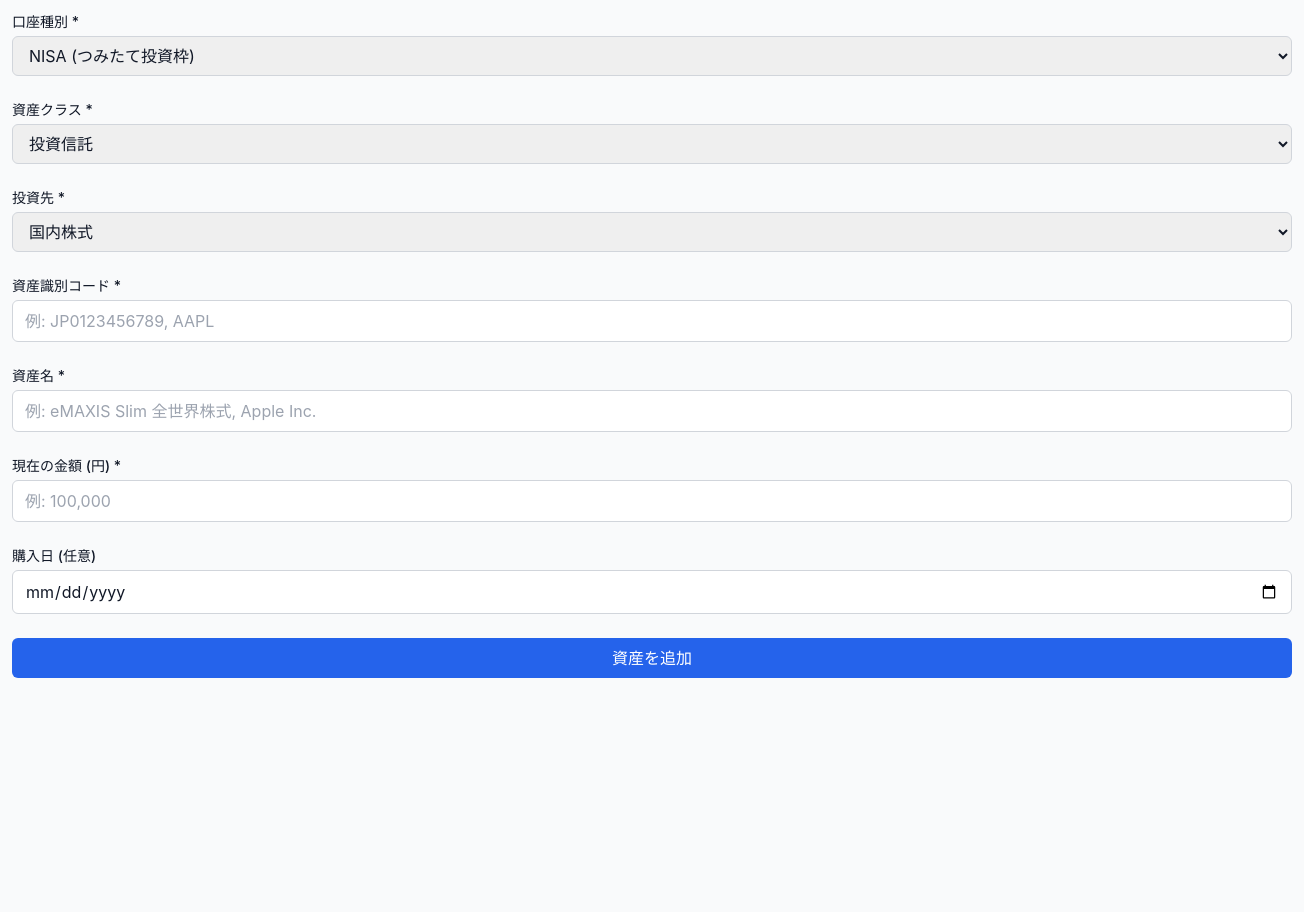
Scenario: HoldingsForm › validates non-negative amount
Type "-1000" into the field labelled "現在の金額 (円) *". click: (652, 501)
box: [12,480,1292,522]
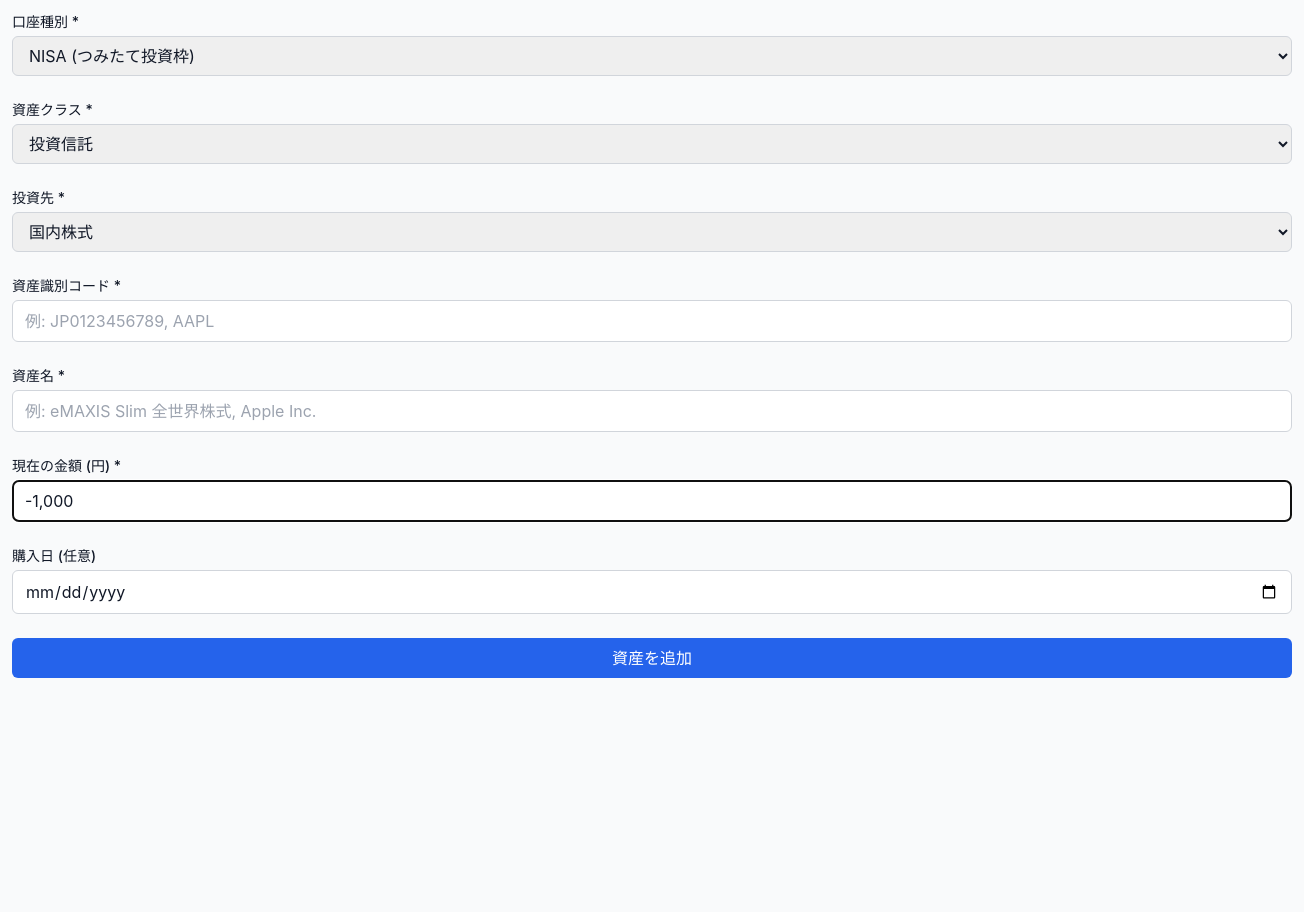
Click the button "資産を追加". click: (652, 658)
box: [12,638,1292,678]
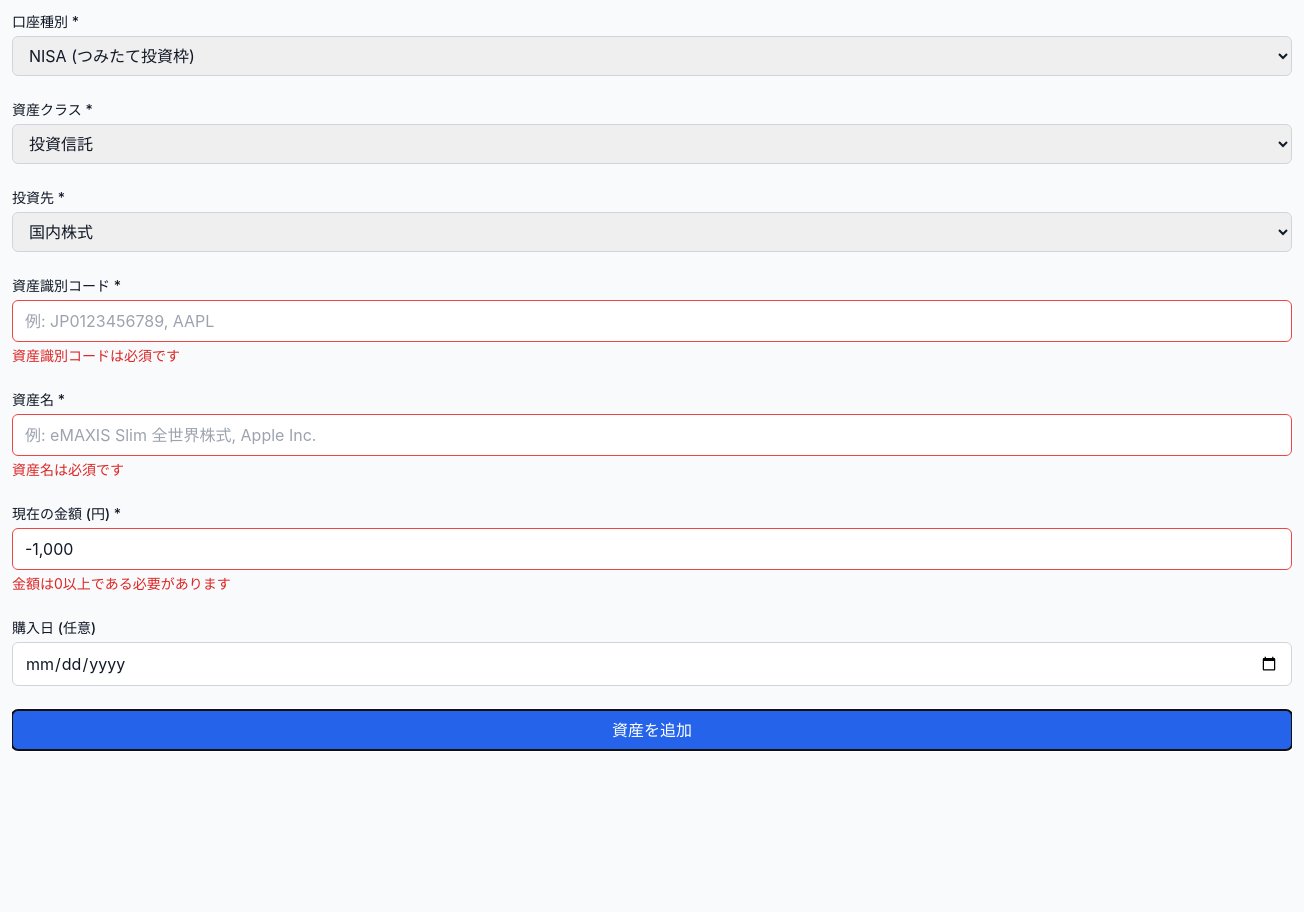
Expected: the text "金額は0以上である必要があります" is shown, [12,575,231,592]
